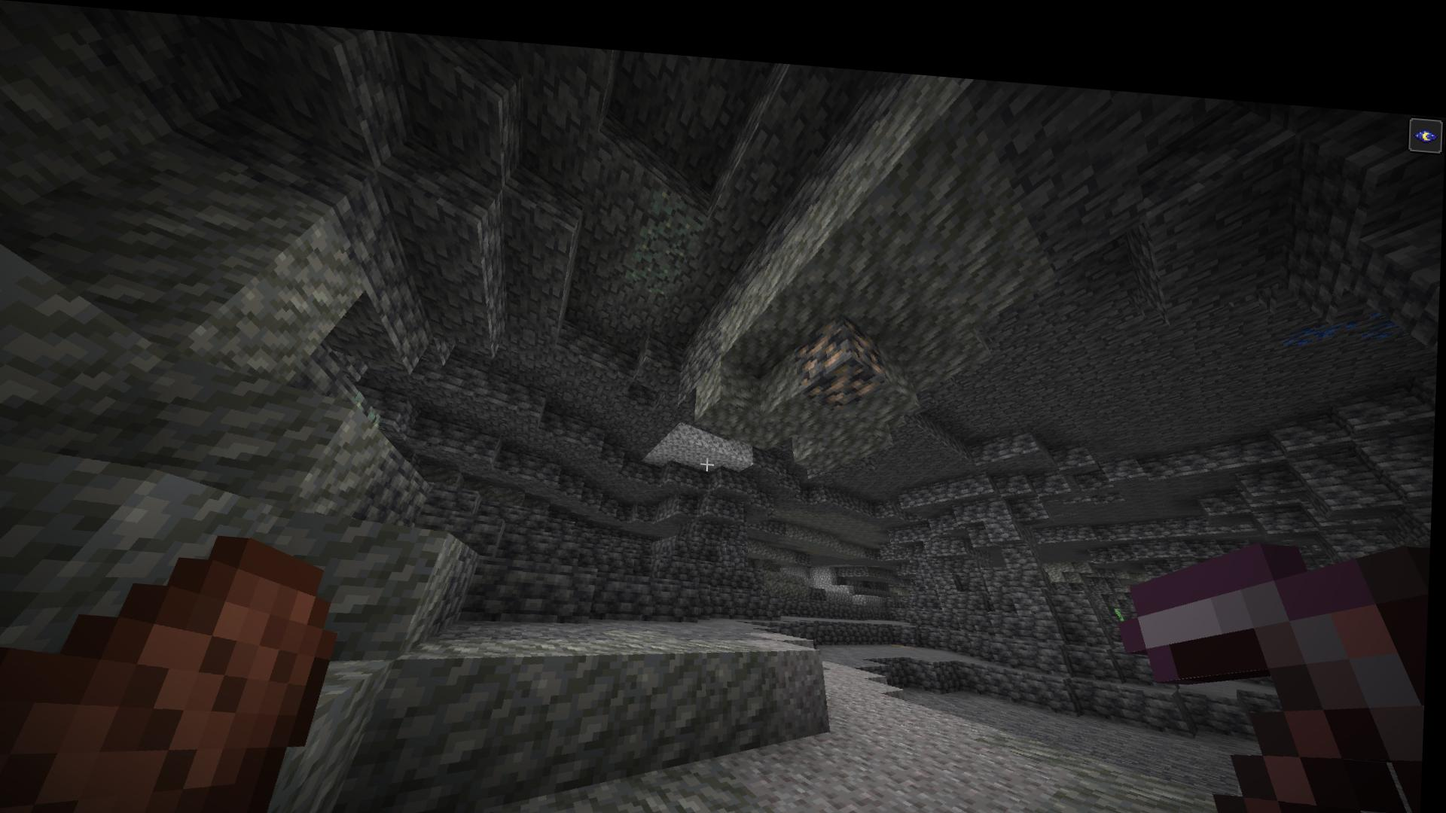iron ore: (815, 346, 881, 401), (798, 303, 849, 371), (850, 306, 890, 358)
